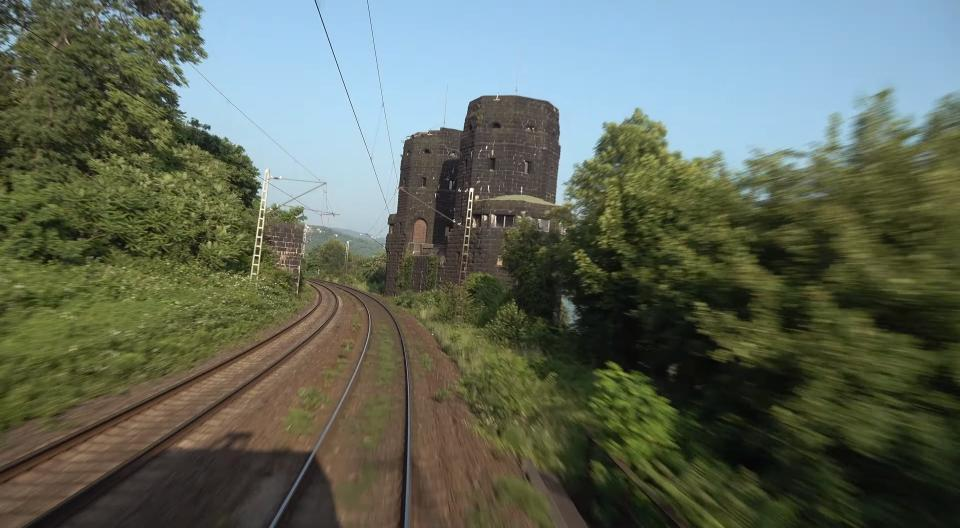Plant: (393, 291, 564, 470), (493, 477, 554, 528), (332, 463, 376, 519), (286, 387, 326, 435), (360, 394, 392, 451), (374, 320, 400, 387), (458, 493, 501, 528), (322, 339, 354, 386), (346, 294, 362, 331), (421, 352, 433, 371), (435, 389, 452, 402)
